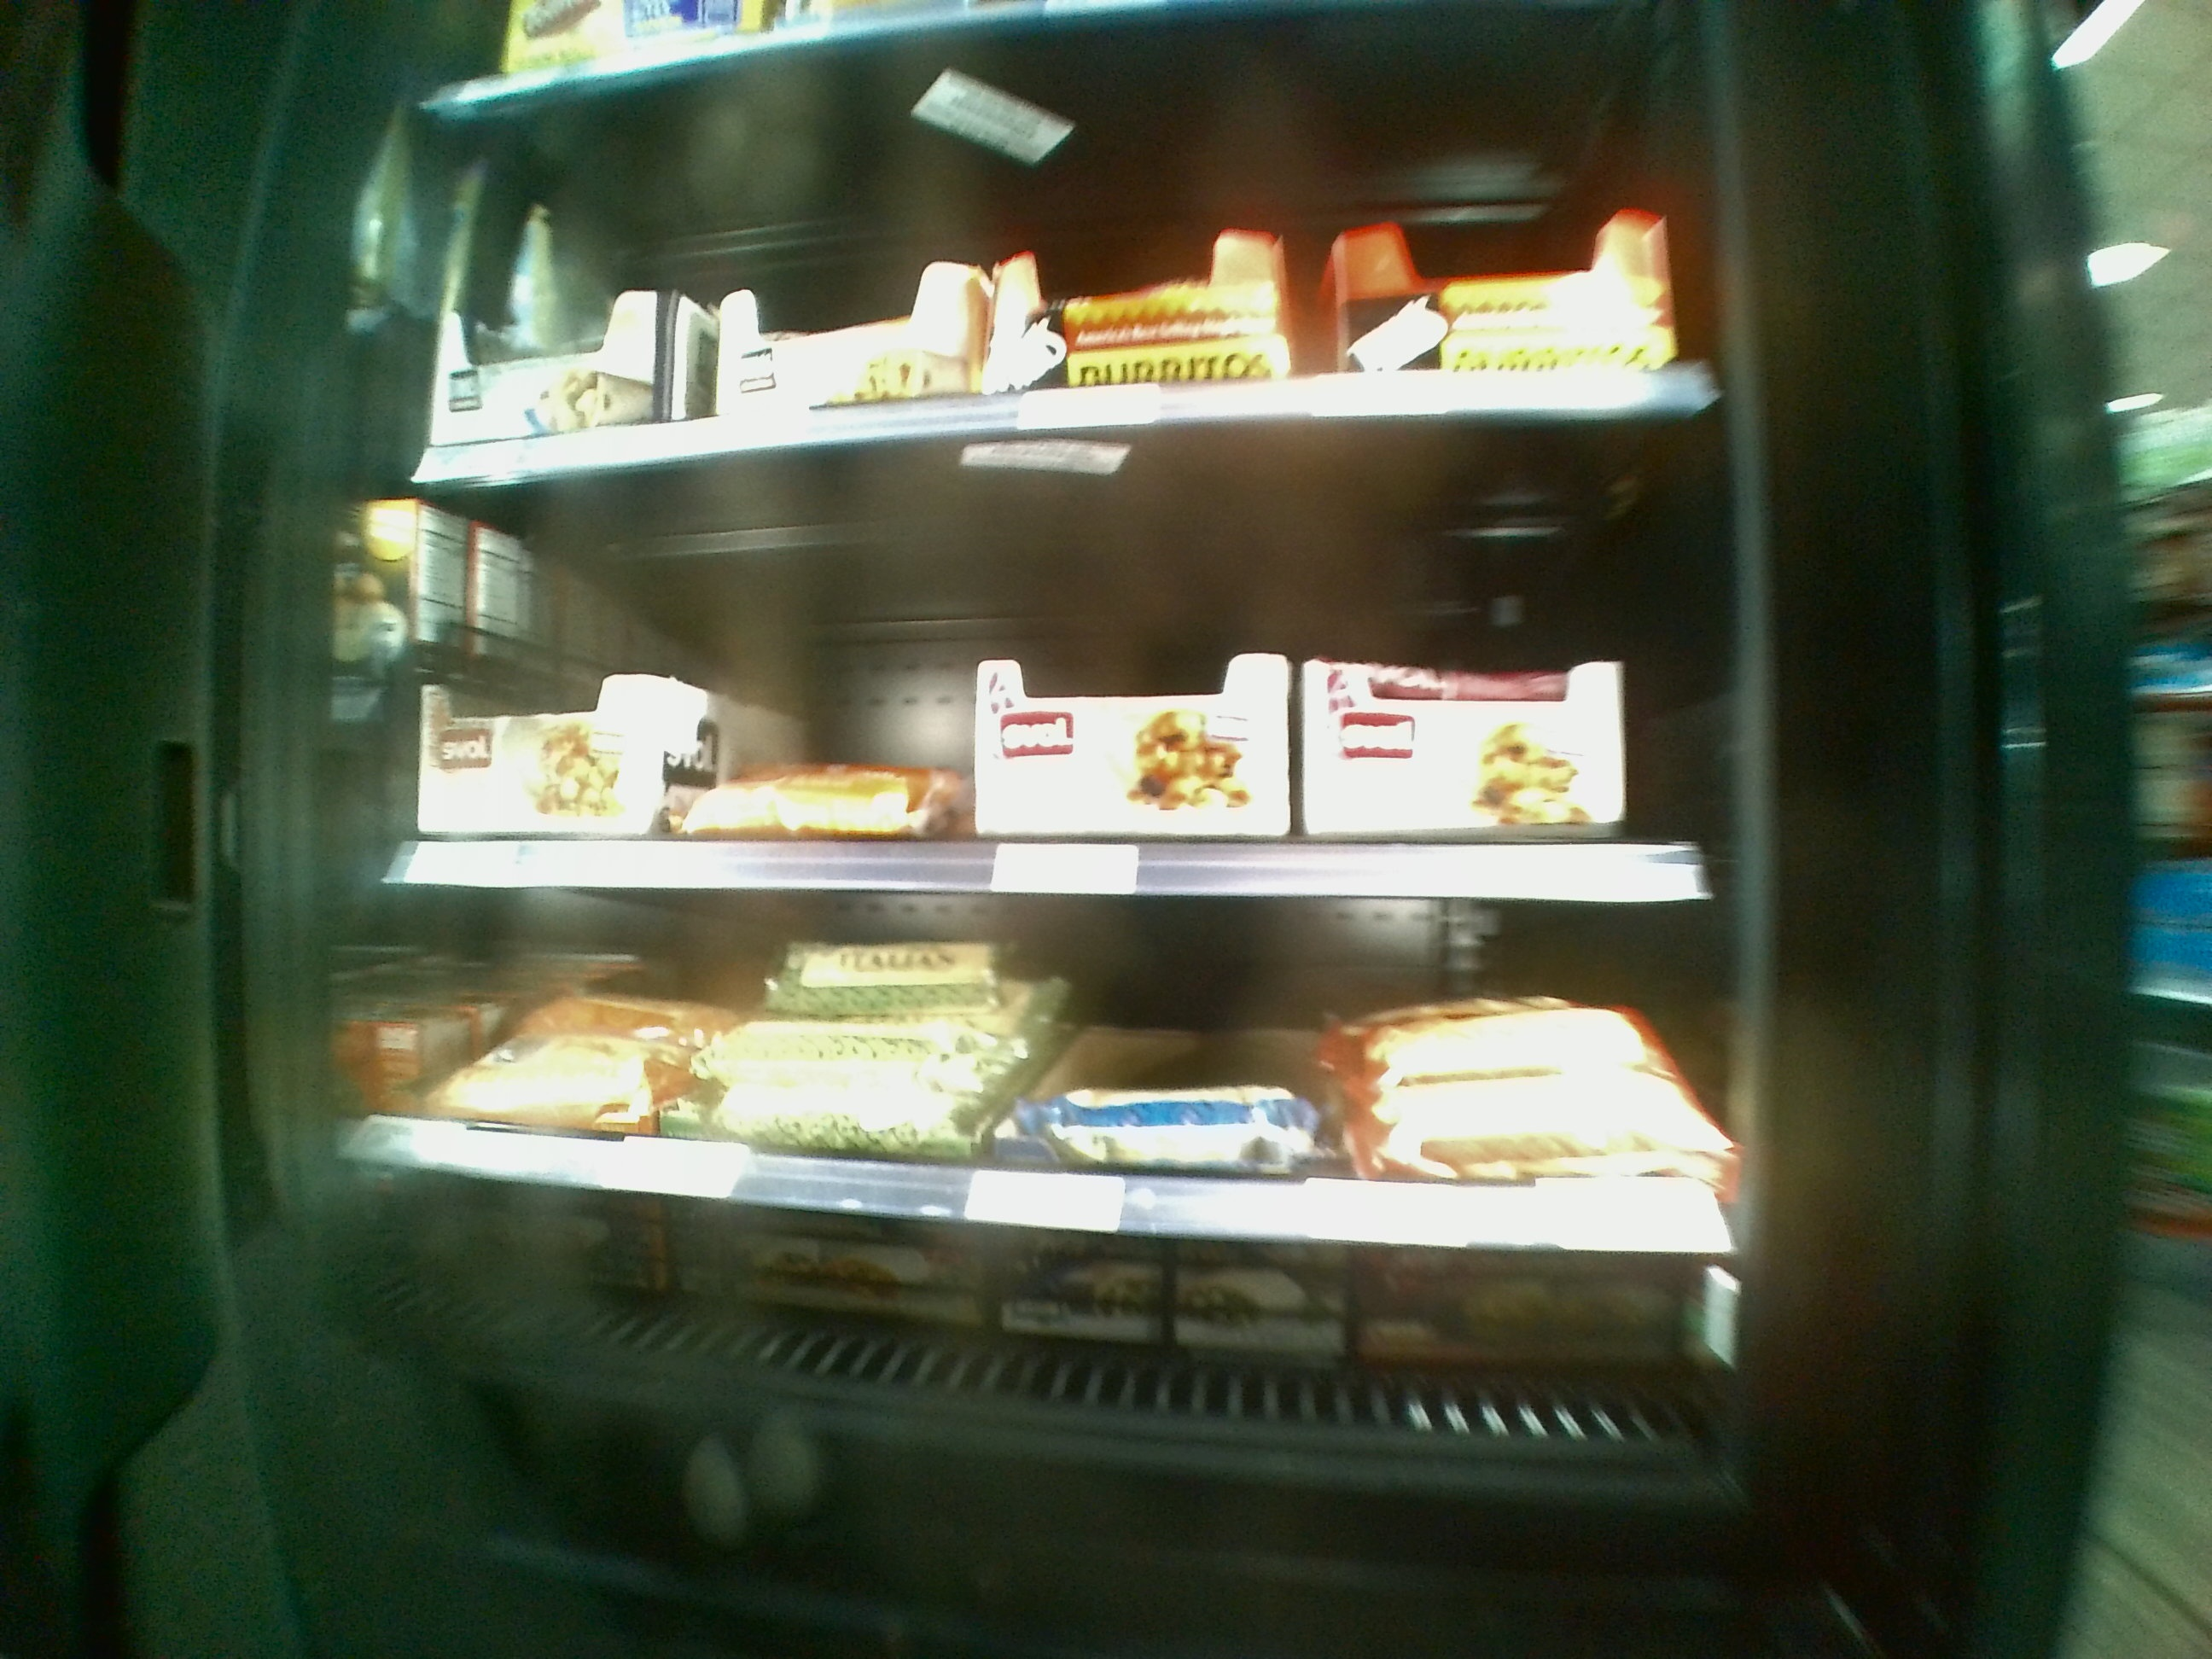shelf: (411, 477, 1710, 896), (434, 68, 1707, 486), (399, 1204, 1717, 1547), (387, 899, 1724, 1222)
